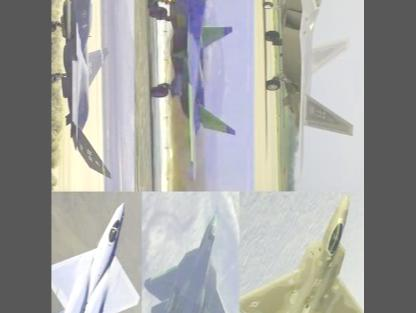F18: (263, 0, 355, 184), (239, 194, 365, 312)
SR71: (147, 0, 237, 182), (144, 206, 233, 312)
US2: (53, 0, 113, 180), (52, 201, 141, 312)
